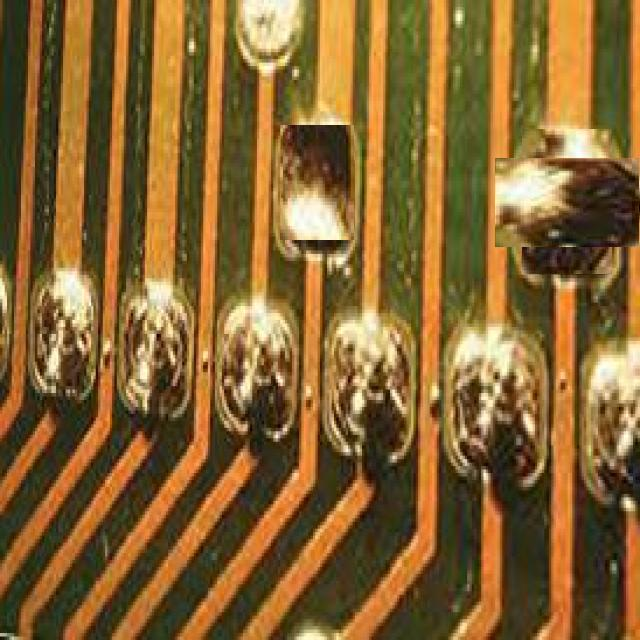redundant: (495, 157, 639, 247), (281, 125, 352, 240)
